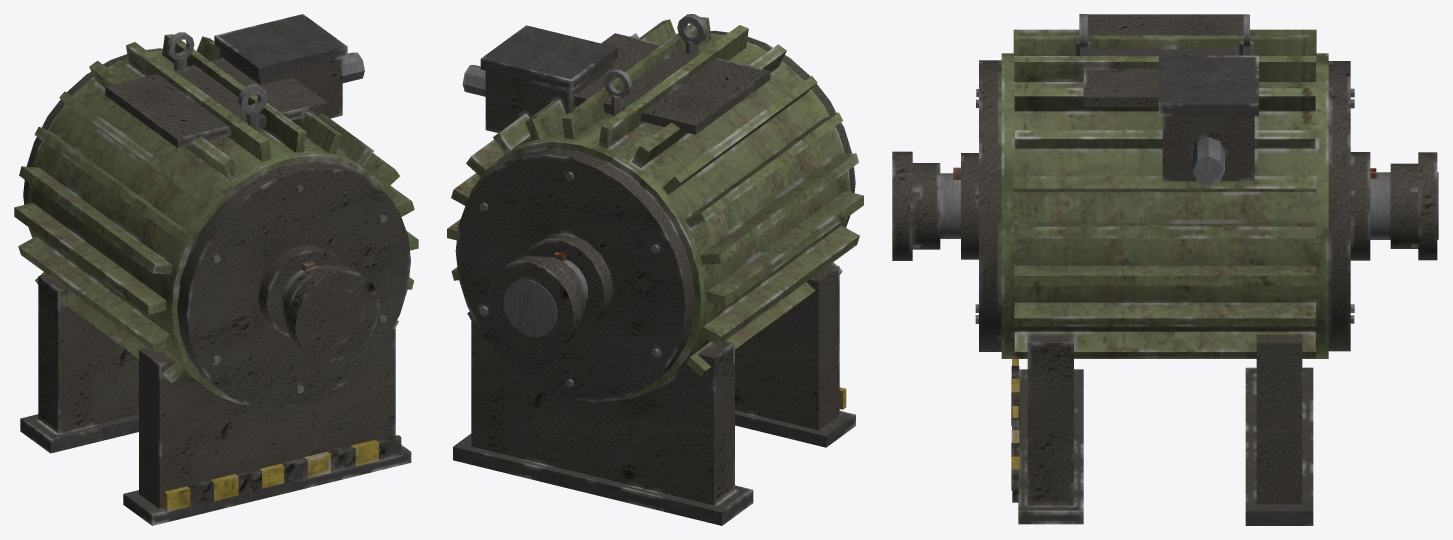
Rendered from feElectricMotor2_HD.fbx.
3 views of the same model, side by side, from view 1: azimuth 30°, elevation 25°; view 2: azimuth 150°, elevation 25°; view 3: azimuth 270°, elevation 25° (orthographic). The views are drawn at different scales.
Visible parts, largest first — view 1: feElectricMotor2_Base, FeSpin_Motor2; view 2: feElectricMotor2_Base, FeSpin_Motor2; view 3: feElectricMotor2_Base, FeSpin_Motor2.
Boxes of the visible parts, box(x1,y1,x2,y2) form: feElectricMotor2_Base: box(14, 14, 418, 525); FeSpin_Motor2: box(282, 261, 379, 361); feElectricMotor2_Base: box(447, 14, 863, 525); FeSpin_Motor2: box(488, 252, 587, 353); feElectricMotor2_Base: box(961, 14, 1370, 525); FeSpin_Motor2: box(892, 151, 1438, 260).
Bounding box in the file's own units: 0.7076 × 0.8889 × 1.
Materials: 1 (1 with a texture image).
